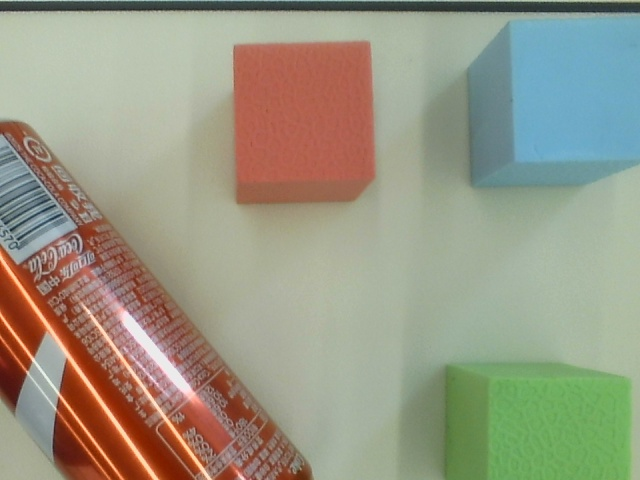bluecube: (461, 15, 640, 192)
cola: (1, 111, 324, 480)
greencube: (439, 360, 640, 480)
redcube: (218, 39, 386, 210)
